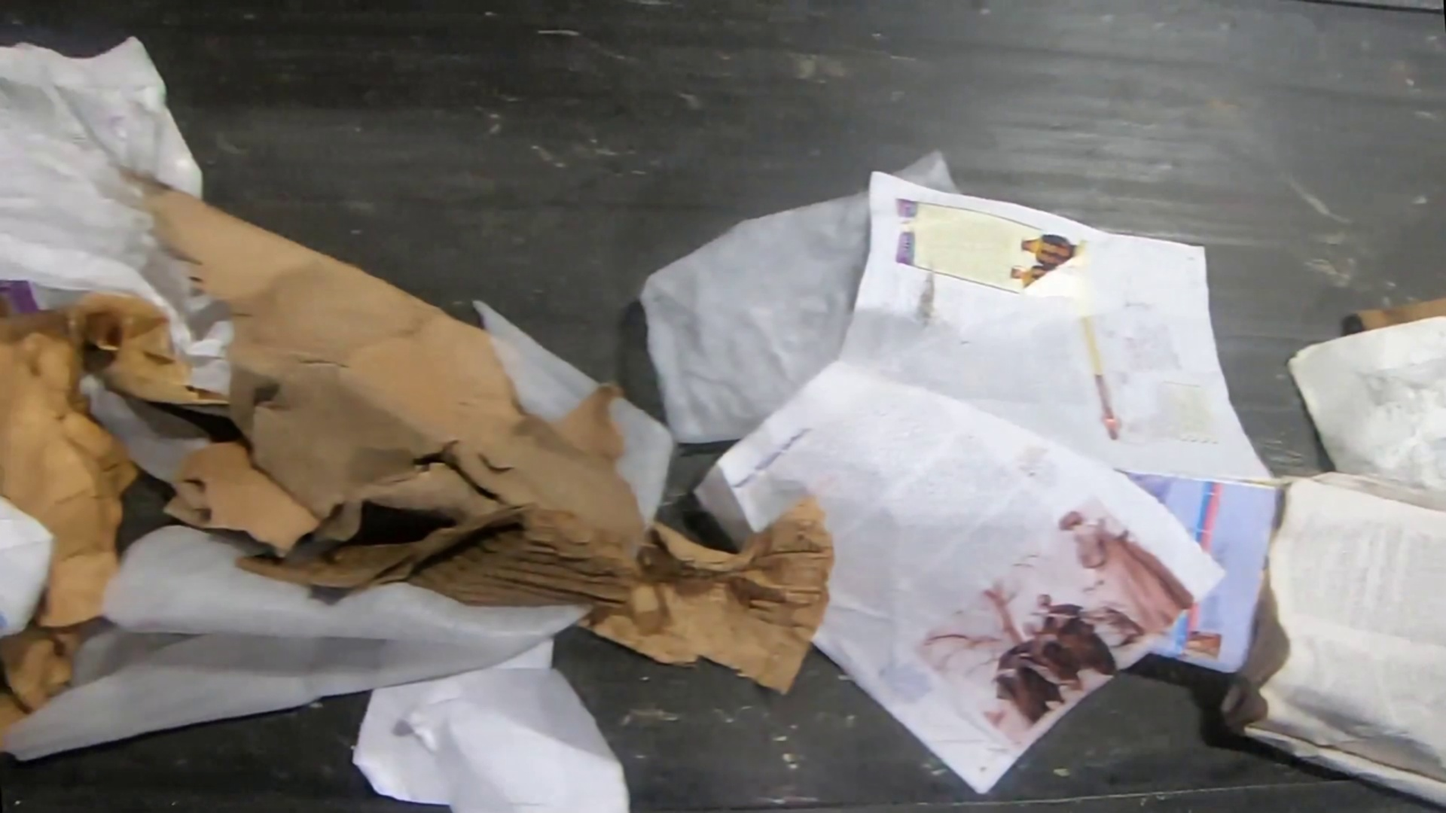cardboard: (129, 166, 658, 617), (0, 290, 230, 628), (574, 498, 833, 697), (0, 619, 94, 737), (1354, 299, 1446, 333)
